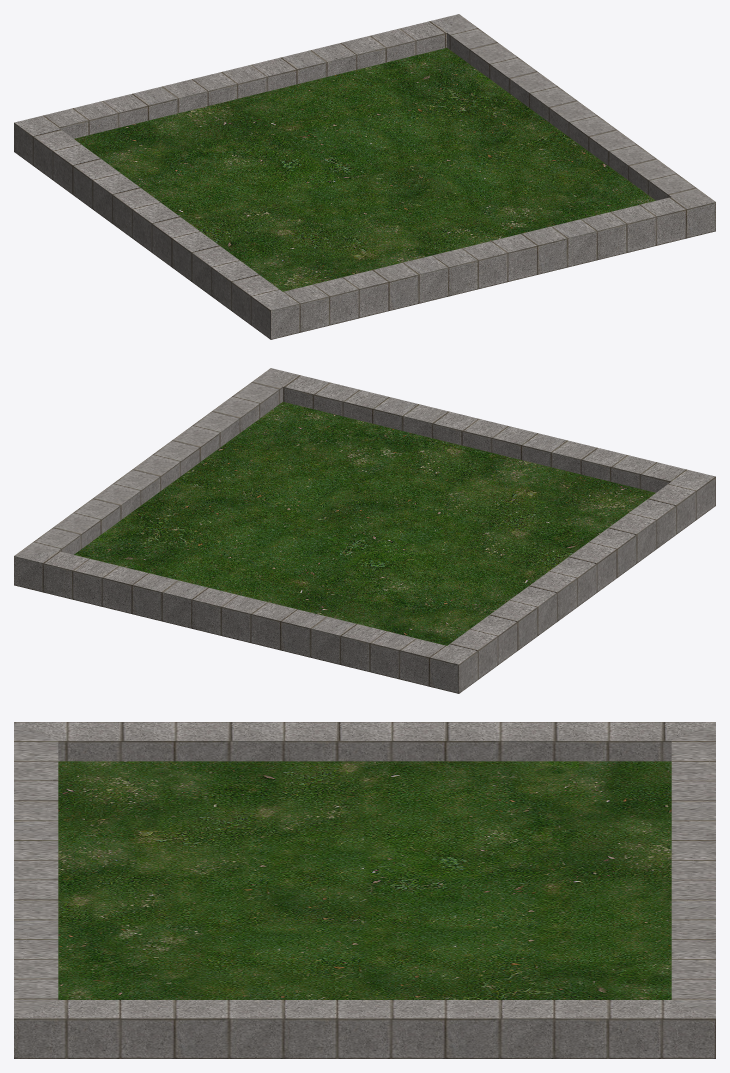
The model's file is huatan.FBX.
3 views of the same model, one above another, from view 1: azimuth 30°, elevation 25°; view 2: azimuth 150°, elevation 25°; view 3: azimuth 270°, elevation 25° (orthographic). The views are drawn at different scales.
Visible parts, largest first — view 1: Object001, Plane001; view 2: Object001, Plane001; view 3: Object001, Plane001.
Part boxes in pixels (box(x1,y1,x2,y2)): Object001: box(74, 48, 655, 291); Plane001: box(14, 14, 715, 339); Object001: box(74, 402, 655, 645); Plane001: box(14, 368, 715, 693); Object001: box(58, 761, 671, 999); Plane001: box(14, 722, 715, 1058).
Bounding box in the file's own units: 800 × 50.35 × 800.
